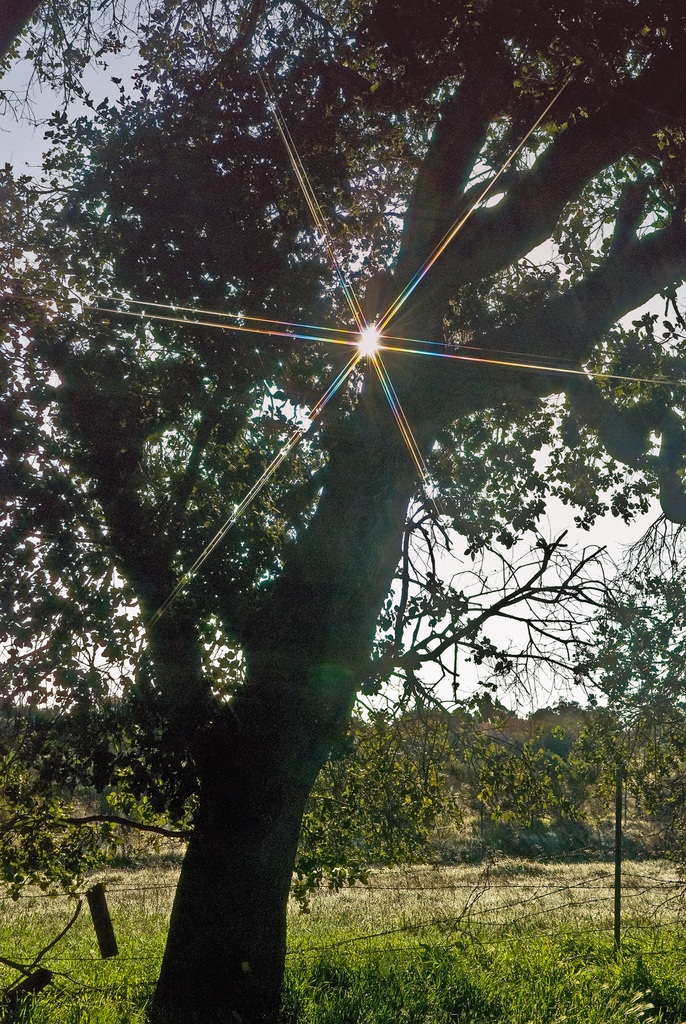Tree: (0, 0, 685, 1023), (0, 509, 685, 854)
